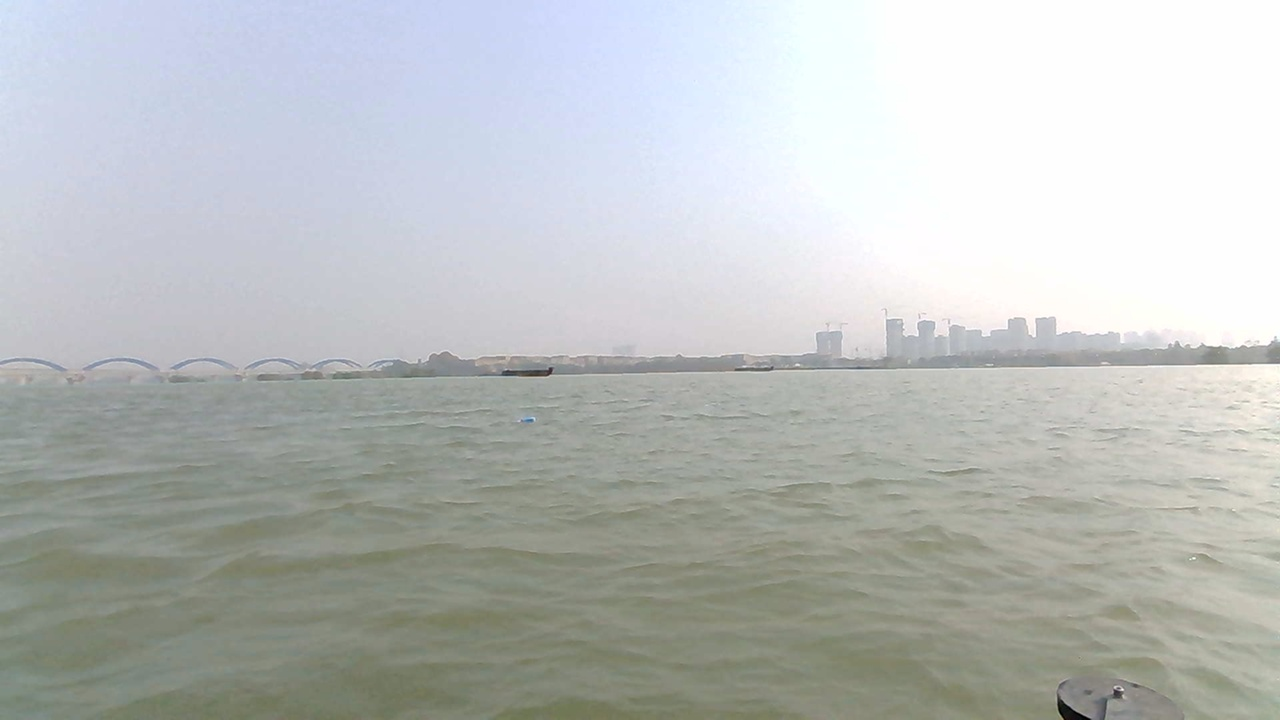bottle: (514, 413, 543, 427)
